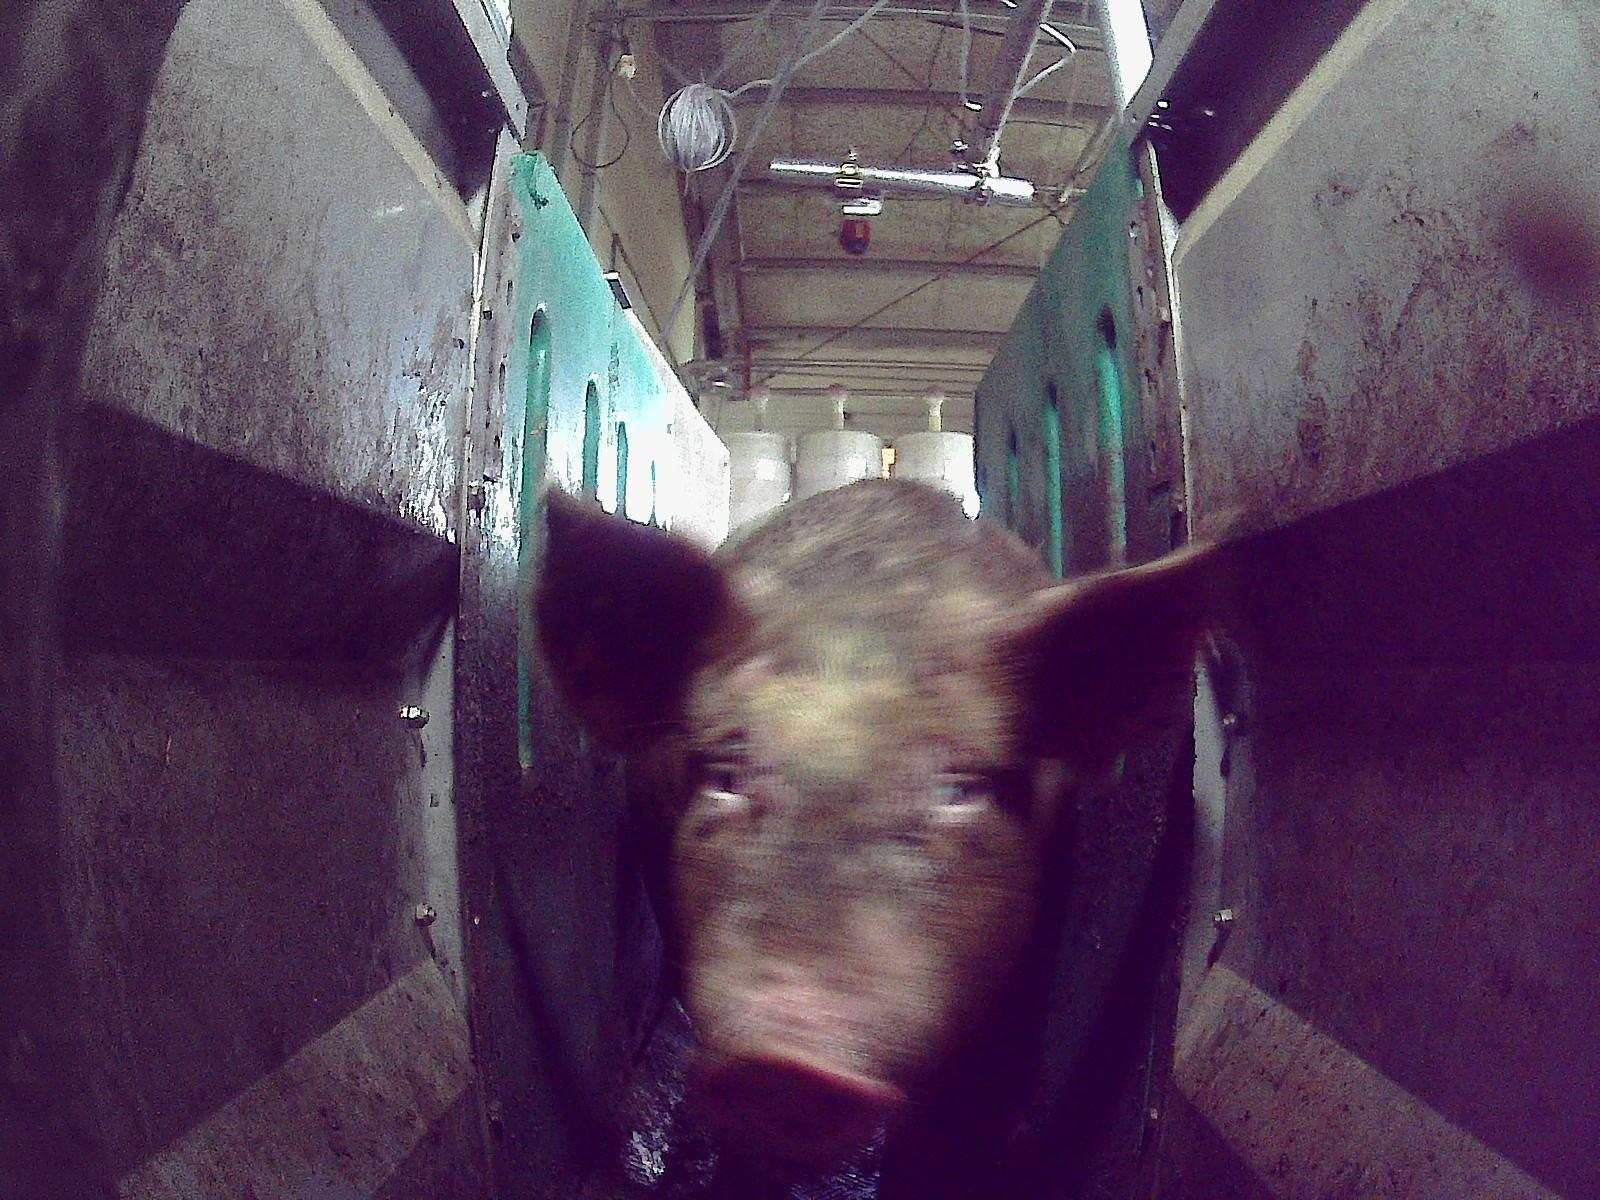Face: (662, 603, 1042, 1180)
